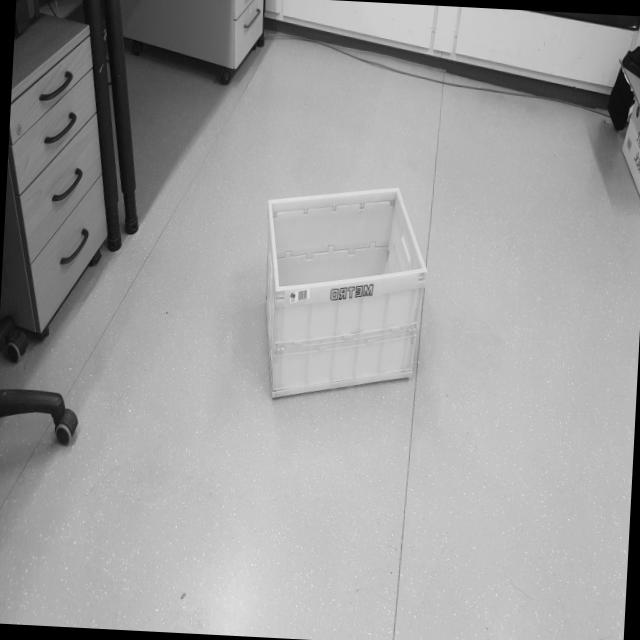box: (245, 168, 434, 438)
